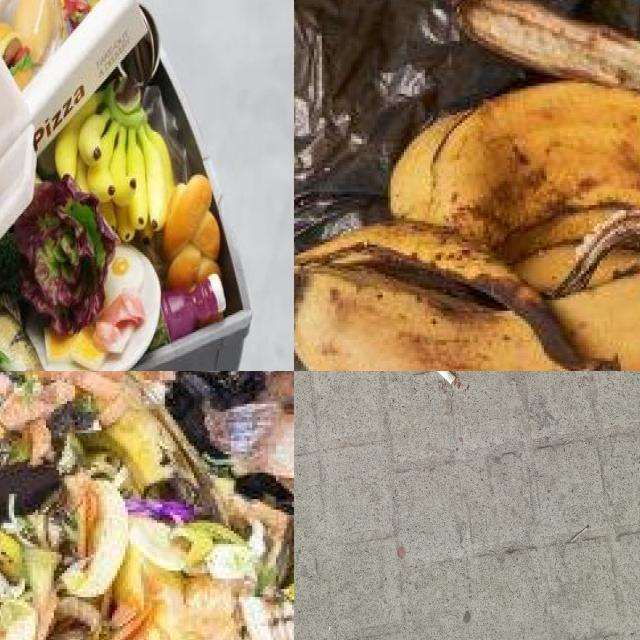Background: (294, 371, 640, 640)
Cig_bud: (436, 371, 456, 385)
Garbage: (294, 0, 640, 371), (0, 371, 294, 640)
Glass_bottle: (99, 254, 161, 371), (26, 311, 98, 371)
Plastic: (294, 0, 544, 255)
Plastic_bottle: (161, 275, 224, 340)
contaminated_waste: (23, 0, 146, 154), (0, 58, 34, 240)
